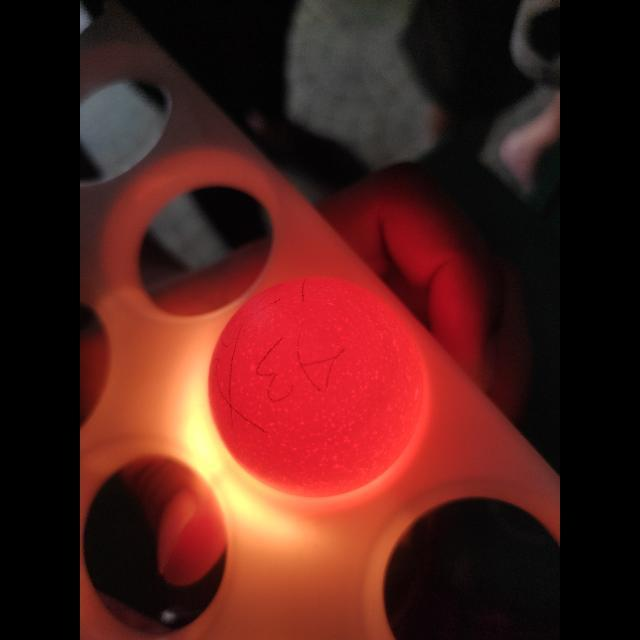Infertile: (201, 268, 441, 504)
